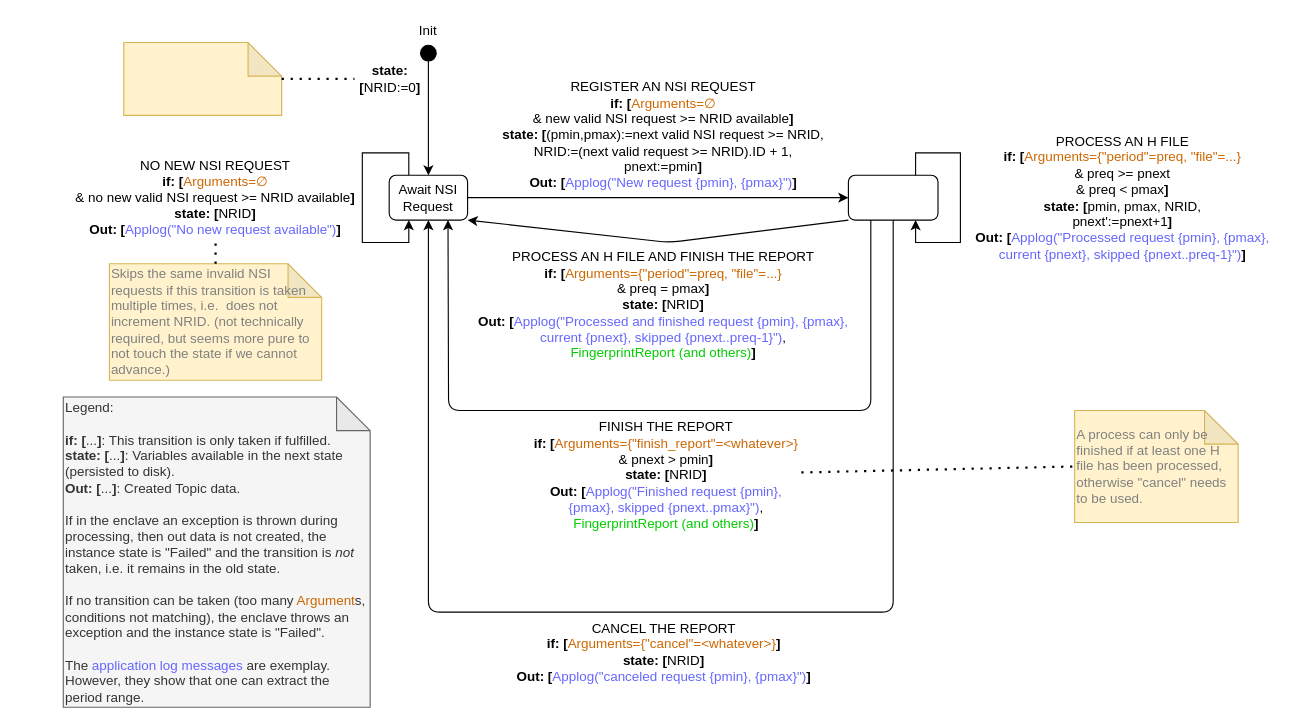
Image size: 1292x727. Some labels were removed from this diagram. Here are the shapes that lost their labels. From the top down, the centre of each, then its label:
[202,78]: The N ext R equest ID is the index into the "nsi_input" topic.
[892,197]: Process NSI Request
